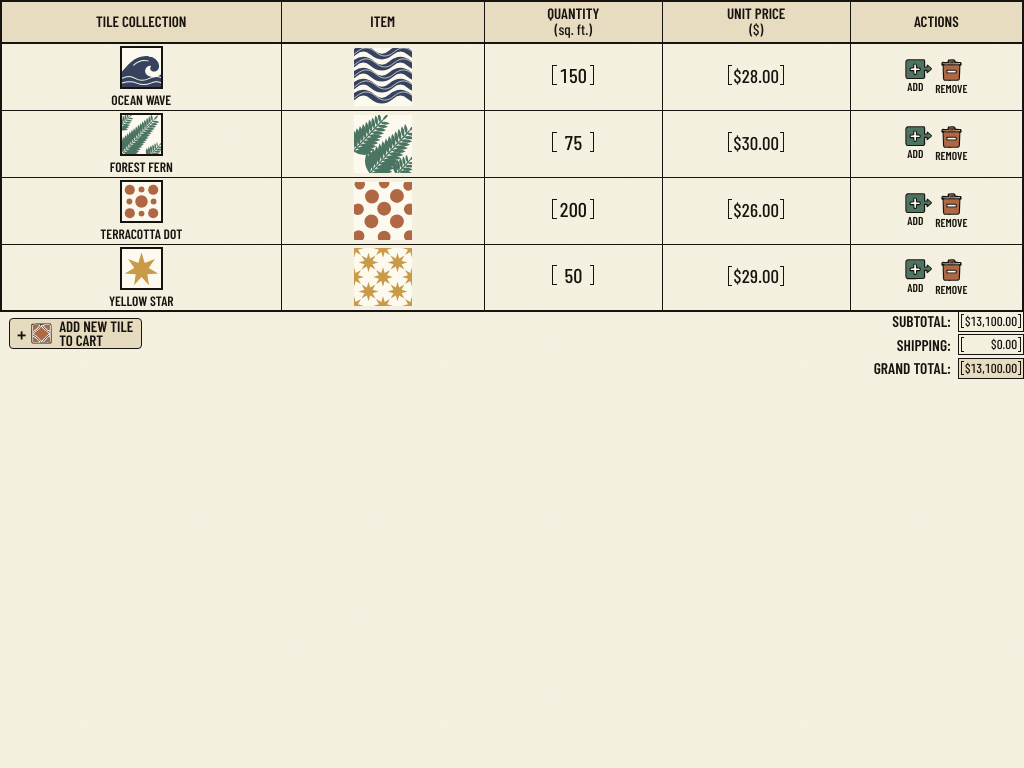
Test: <CartPanel /> › steps the quantity with "Add" and the arrow keys
This screenshot has width=1024, height=768.
Click the button with aria-label "Add 1 sq. ft. of Yellow Star". click: (919, 276)
box: x1=905 y1=259 x2=932 y2=293
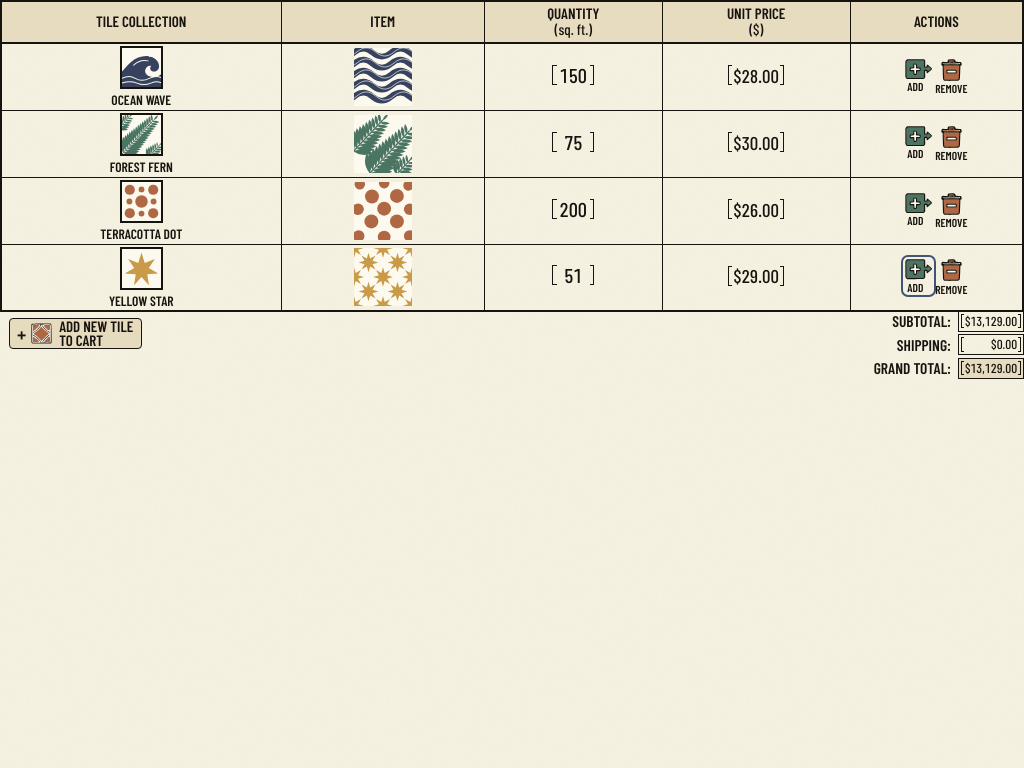
Click the field named "Yellow Star quantity, square feet". click: (573, 275)
box: x1=558 y1=263 x2=588 y2=287
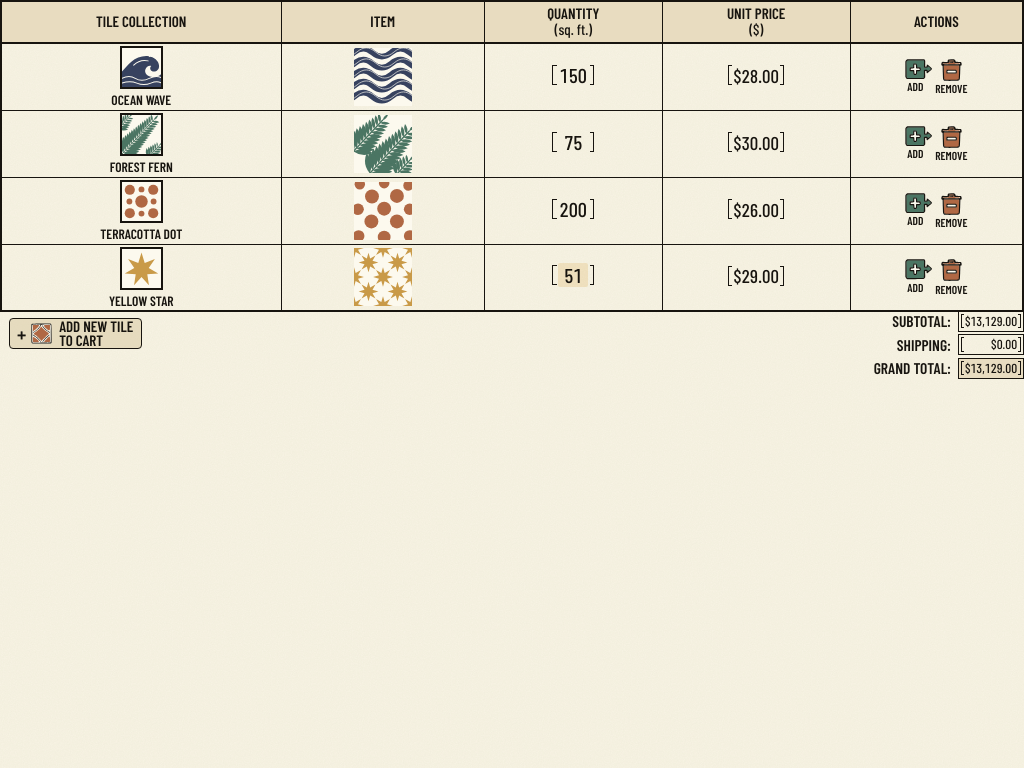
Type keys "{ArrowUp}{Shift>}{ArrowUp}{/Shift}{ArrowDown}"
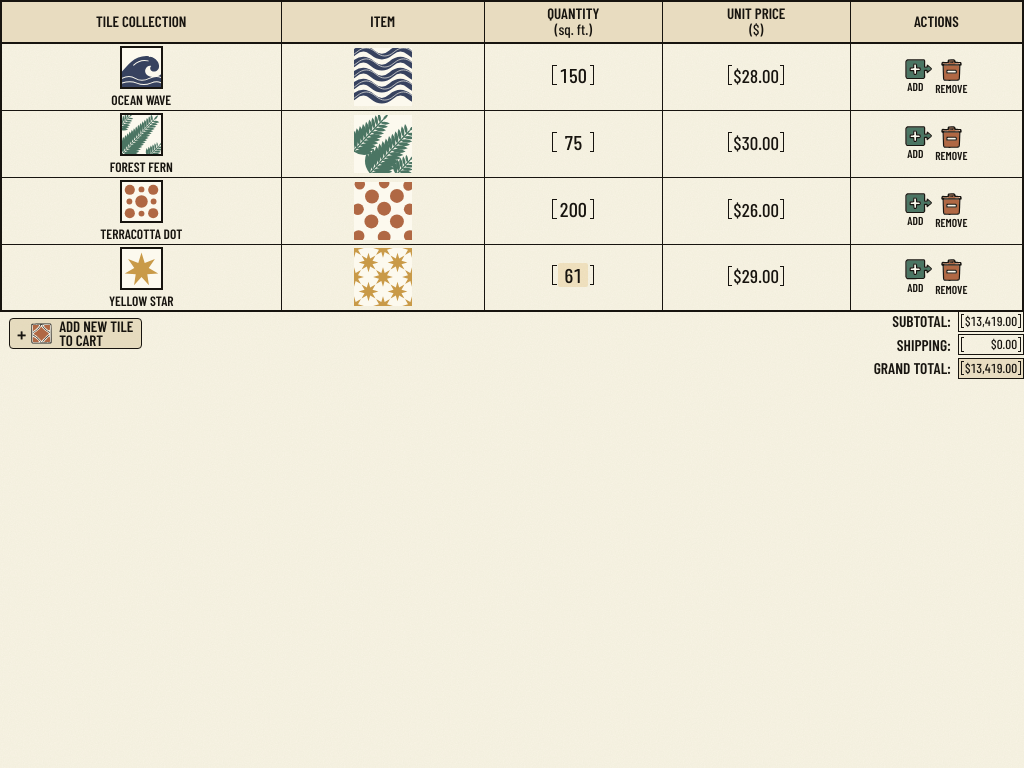
expect the field named "Yellow Star quantity, square feet" holds "61": met, box x1=558 y1=263 x2=588 y2=287
